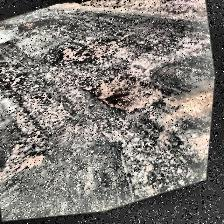pothole: (79, 54, 175, 136), (44, 26, 132, 78), (1, 143, 56, 183), (15, 9, 52, 38), (0, 18, 14, 40)
